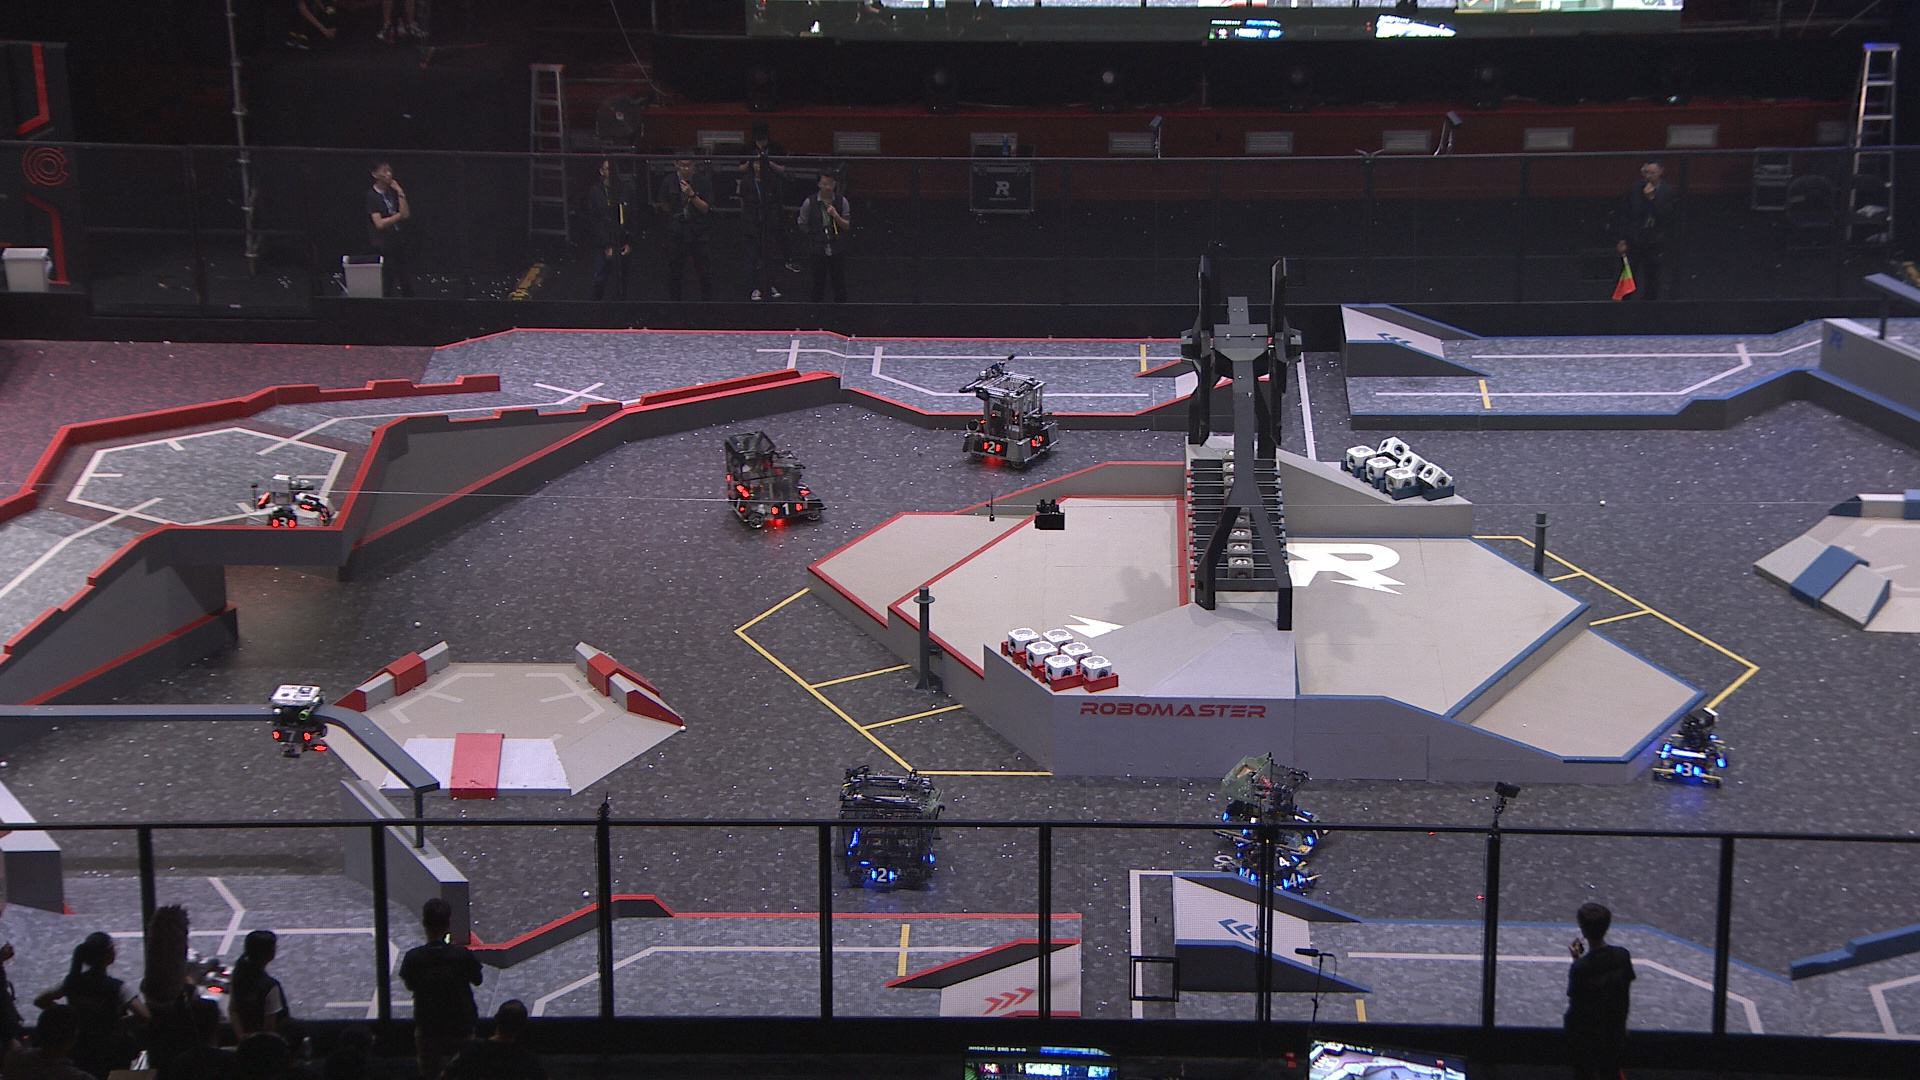armor: (269, 728, 313, 745), (208, 968, 233, 994), (771, 501, 803, 518), (869, 866, 897, 884), (1675, 761, 1700, 779), (1288, 808, 1313, 825), (269, 514, 297, 529), (1238, 864, 1258, 884), (978, 439, 1002, 455), (1282, 873, 1302, 891), (1304, 828, 1324, 845), (1027, 433, 1044, 451), (731, 496, 746, 516), (1275, 855, 1298, 868), (301, 495, 319, 510), (794, 483, 811, 498), (319, 506, 334, 524)
car: (832, 767, 942, 889), (1215, 756, 1333, 860), (961, 365, 1060, 471), (721, 433, 823, 529), (138, 948, 243, 1025), (1218, 827, 1321, 897), (1648, 707, 1727, 790), (243, 472, 338, 538)
watcher: (268, 683, 328, 760)
